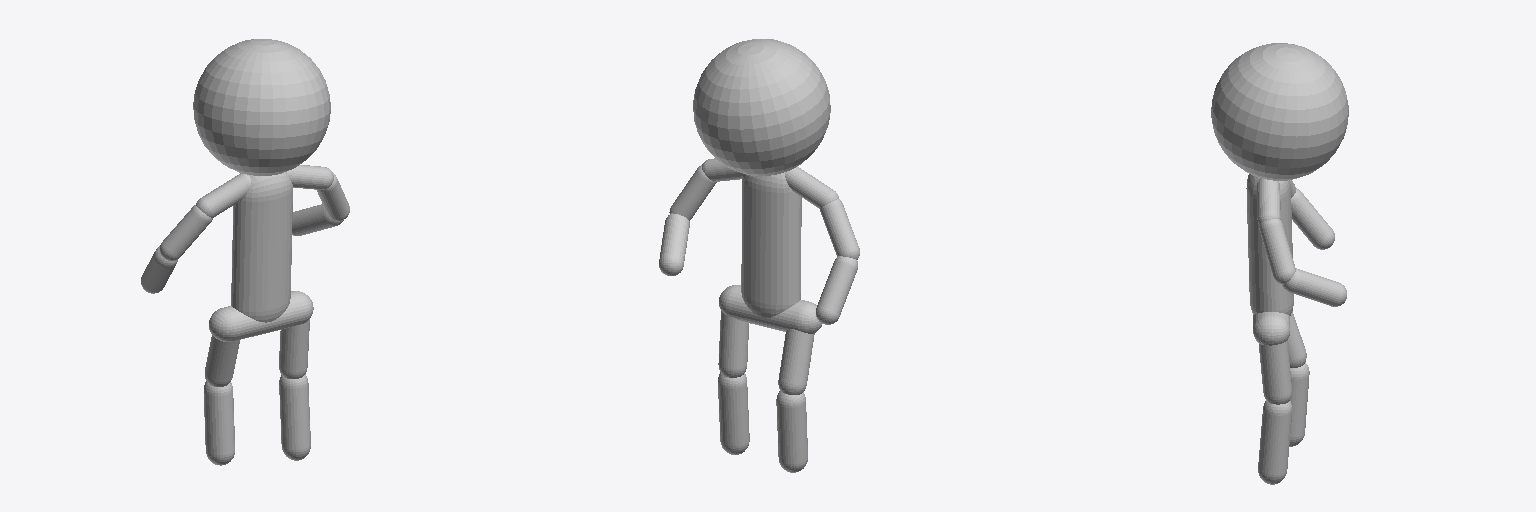
File: Stickman_000032.obj
3 renders of one model, left to right at view 1: azimuth 30°, elevation 25°; view 2: azimuth 150°, elevation 25°; view 3: azimuth 270°, elevation 25°, orthographic.
Visible parts, largest first — view 1: Head_Sphere.001, Body_Roundcube.002, Hip_Roundcube.005, LowerLegLeft_Roundcube.013, LowerLegRight_Roundcube.011, UpperLegLeft_Roundcube.012, UpperArmRight_Roundcube.015, UpperLegRight_Roundcube.010, ShoulderRight_Roundcube.014, LowerArmLeft_Roundcube.019, ShoulderLeft_Roundcube.017, LowerArmRight_Roundcube.016 (+1 smaller); view 2: Head_Sphere.001, Body_Roundcube.002, LowerLegRight_Roundcube.011, LowerLegLeft_Roundcube.013, Hip_Roundcube.005, UpperLegRight_Roundcube.010, LowerArmRight_Roundcube.016, UpperLegLeft_Roundcube.012, LowerArmLeft_Roundcube.019, UpperArmRight_Roundcube.015, UpperArmLeft_Roundcube.018, ShoulderRight_Roundcube.014 (+1 smaller); view 3: Head_Sphere.001, Body_Roundcube.002, LowerLegLeft_Roundcube.013, UpperLegLeft_Roundcube.012, UpperArmLeft_Roundcube.018, LowerArmLeft_Roundcube.019, LowerArmRight_Roundcube.016, LowerLegRight_Roundcube.011, Hip_Roundcube.005, ShoulderLeft_Roundcube.017, UpperLegRight_Roundcube.010.
Boxes of the visible parts, box(x1,y1,x2,y2) form: Head_Sphere.001: box(193, 39, 330, 175); Body_Roundcube.002: box(231, 172, 292, 322); Hip_Roundcube.005: box(209, 291, 313, 341); LowerLegLeft_Roundcube.013: box(279, 374, 310, 460); LowerLegRight_Roundcube.011: box(204, 381, 234, 465); UpperLegLeft_Roundcube.012: box(279, 319, 309, 378); UpperArmRight_Roundcube.015: box(160, 205, 212, 260); UpperLegRight_Roundcube.010: box(205, 335, 239, 386); ShoulderRight_Roundcube.014: box(196, 173, 250, 217); LowerArmLeft_Roundcube.019: box(292, 204, 343, 235); ShoulderLeft_Roundcube.017: box(287, 165, 333, 189); LowerArmRight_Roundcube.016: box(141, 246, 177, 293); Head_Sphere.001: box(693, 39, 830, 175); Body_Roundcube.002: box(741, 172, 801, 317); LowerLegRight_Roundcube.011: box(776, 391, 807, 472); LowerLegLeft_Roundcube.013: box(718, 372, 749, 454); Hip_Roundcube.005: box(719, 285, 821, 333); UpperLegRight_Roundcube.010: box(778, 329, 814, 394); LowerArmRight_Roundcube.016: box(816, 256, 857, 324); UpperLegLeft_Roundcube.012: box(718, 311, 748, 377); LowerArmLeft_Roundcube.019: box(659, 213, 689, 275); UpperArmRight_Roundcube.015: box(820, 199, 859, 259); UpperArmLeft_Roundcube.018: box(669, 165, 716, 220); ShoulderRight_Roundcube.014: box(785, 166, 838, 208); Head_Sphere.001: box(1211, 43, 1348, 180); Body_Roundcube.002: box(1246, 174, 1293, 315); LowerLegLeft_Roundcube.013: box(1258, 401, 1291, 484); UpperLegLeft_Roundcube.012: box(1259, 340, 1291, 404); UpperArmLeft_Roundcube.018: box(1259, 219, 1295, 284); LowerArmLeft_Roundcube.019: box(1282, 268, 1346, 306); LowerArmRight_Roundcube.016: box(1291, 188, 1334, 249); LowerLegRight_Roundcube.011: box(1289, 362, 1309, 446); Hip_Roundcube.005: box(1253, 312, 1289, 345); ShoulderLeft_Roundcube.017: box(1257, 178, 1280, 224); UpperLegRight_Roundcube.010: box(1288, 311, 1306, 367).
Size of the model in its own units: 5.26 by 11.12 by 3.31.